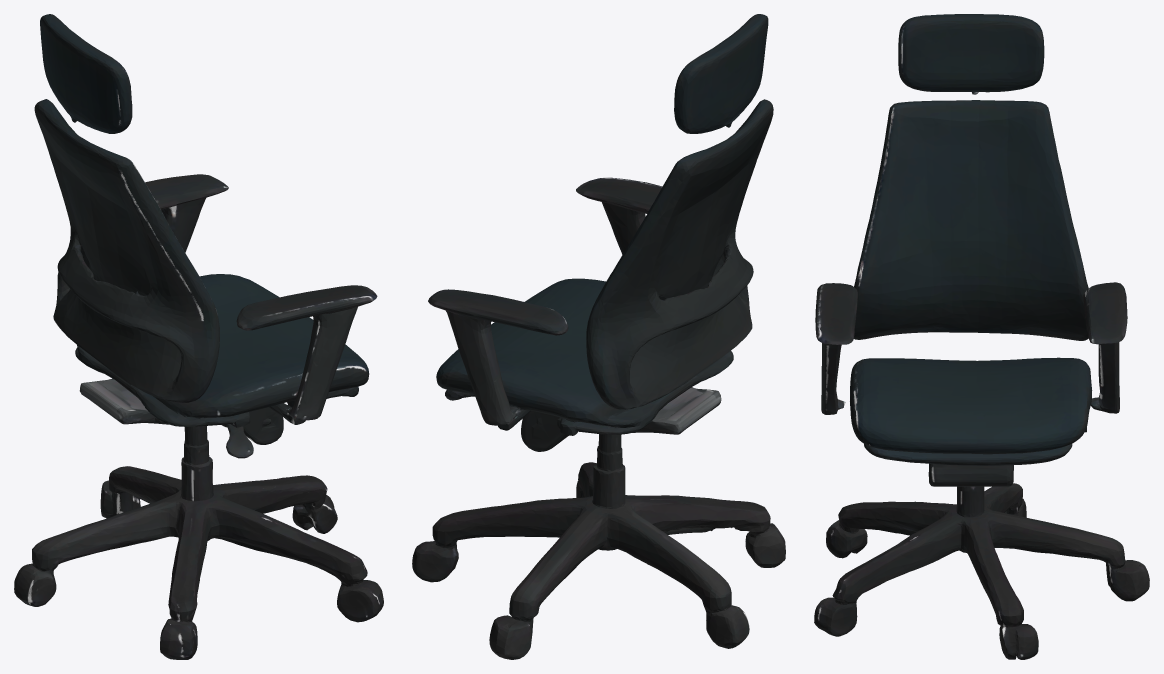
File: office_chair_10.obj
3 views of the same model, side by side, from view 1: azimuth 30°, elevation 25°; view 2: azimuth 150°, elevation 25°; view 3: azimuth 270°, elevation 25° (orthographic). The views are drawn at different scales.
Bounding box in the file's own units: 0.6398 × 1.1 × 0.6404.
1 material, 1 textured.
